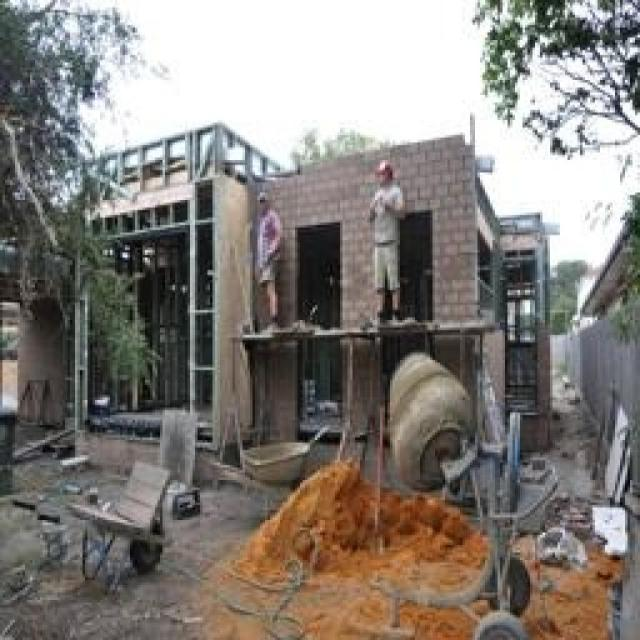Helmet: (368, 185, 406, 252), (250, 208, 286, 277), (370, 156, 404, 190), (248, 183, 278, 213)
